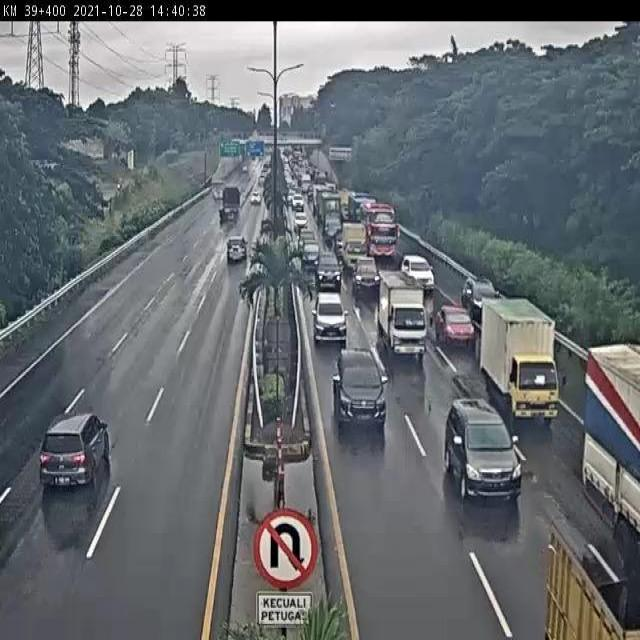car: (445, 397, 526, 499), (40, 417, 113, 488), (333, 349, 388, 424), (436, 302, 478, 350), (311, 289, 347, 344), (461, 273, 500, 319), (313, 249, 343, 291), (403, 254, 433, 294), (352, 258, 379, 294), (222, 233, 249, 264)
truck-m-: (484, 294, 563, 429)
truck-s-: (378, 268, 429, 357)
